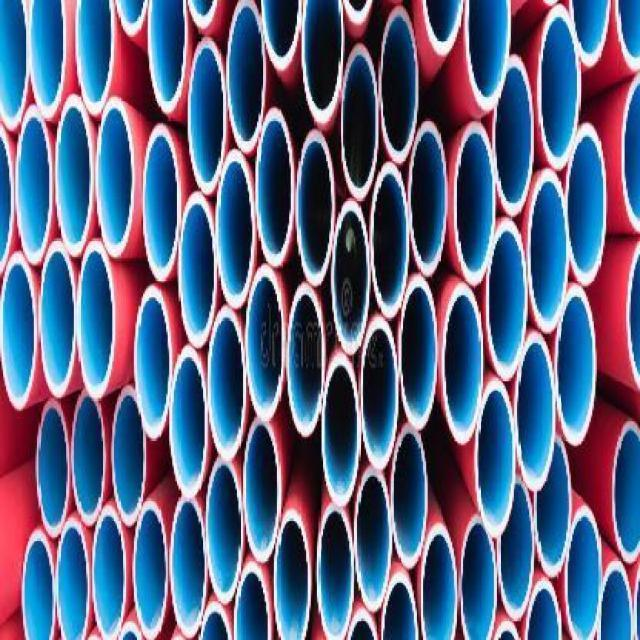pipe: (453, 120, 496, 286), (485, 219, 528, 382), (537, 6, 580, 169), (493, 54, 536, 217), (565, 123, 607, 286), (442, 283, 484, 446), (555, 286, 597, 448), (528, 171, 570, 332), (514, 333, 556, 491), (474, 379, 516, 536), (256, 105, 296, 268), (408, 118, 448, 277), (379, 6, 419, 165), (245, 265, 285, 423), (331, 199, 371, 356), (54, 96, 93, 257), (215, 148, 254, 309), (77, 239, 116, 400), (95, 97, 134, 257), (339, 43, 379, 199), (399, 277, 439, 431), (320, 352, 360, 506), (295, 129, 334, 286), (371, 162, 410, 319), (38, 242, 77, 399), (188, 37, 227, 194), (359, 317, 399, 470), (286, 283, 325, 439), (134, 286, 173, 442), (178, 194, 217, 348), (208, 306, 247, 460), (226, 0, 265, 154), (169, 348, 208, 499), (16, 106, 53, 265), (0, 253, 37, 411), (143, 125, 180, 282), (533, 432, 573, 577), (243, 417, 282, 563), (354, 466, 392, 612), (497, 476, 535, 622), (390, 423, 428, 568), (131, 499, 170, 639), (302, 0, 345, 125), (206, 460, 243, 605), (315, 502, 354, 639), (563, 506, 603, 639), (171, 497, 208, 639), (273, 510, 313, 639), (111, 385, 147, 528), (71, 388, 107, 526), (92, 502, 128, 639), (466, 0, 510, 112), (458, 513, 497, 639), (36, 399, 70, 539), (28, 0, 67, 120), (419, 523, 459, 639), (148, 0, 188, 114), (55, 516, 91, 639), (75, 0, 113, 115), (612, 422, 640, 565), (21, 527, 56, 640), (0, 0, 29, 131), (620, 74, 640, 233), (595, 559, 634, 639), (258, 0, 301, 72), (232, 563, 271, 640), (569, 0, 611, 68), (380, 572, 418, 640)
